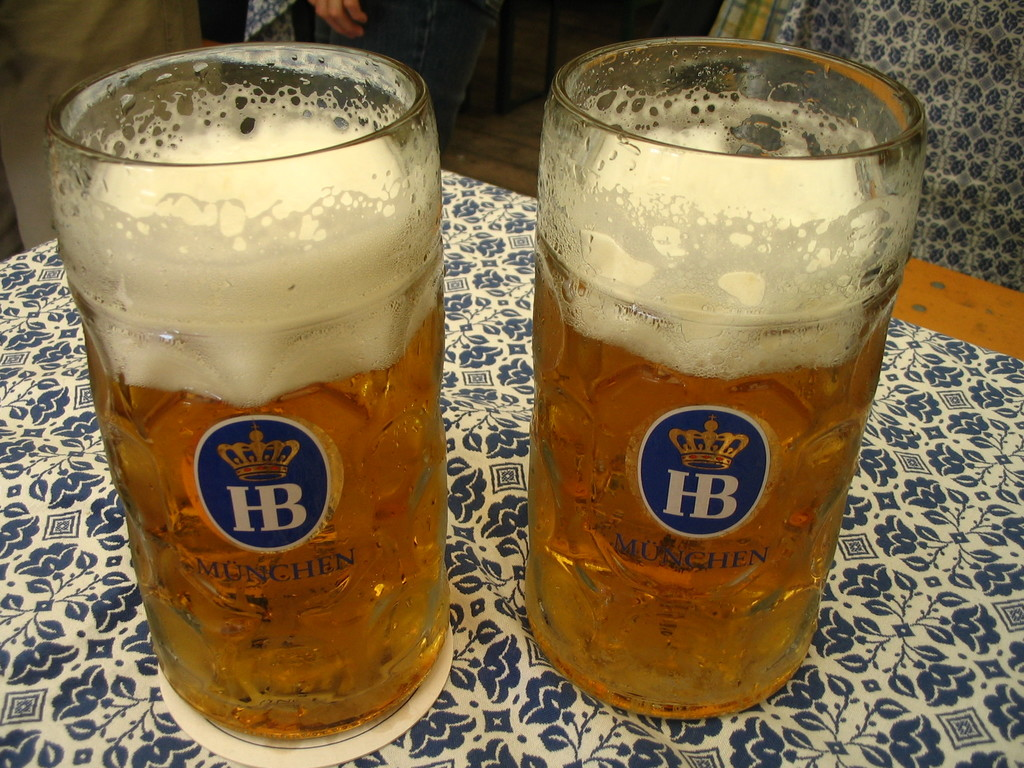Beer: (46, 42, 450, 739), (525, 36, 927, 719)
